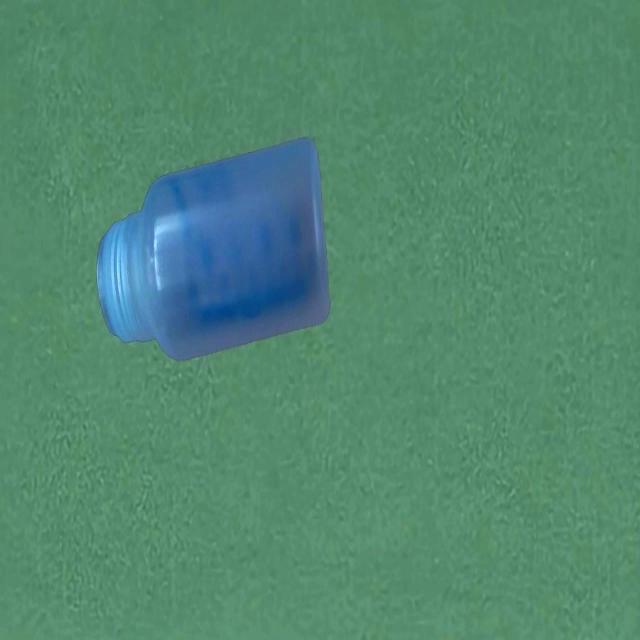bottle: (96, 138, 330, 364)
